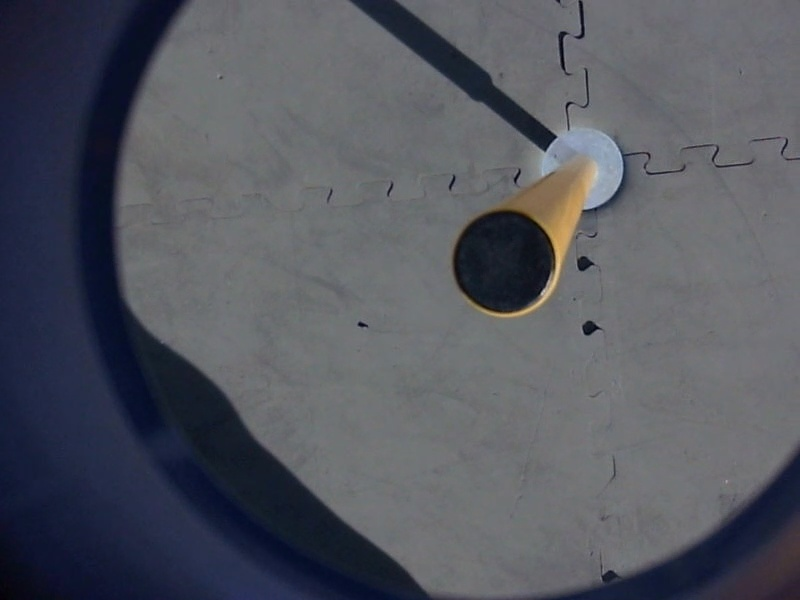tip: (446, 202, 567, 325)
